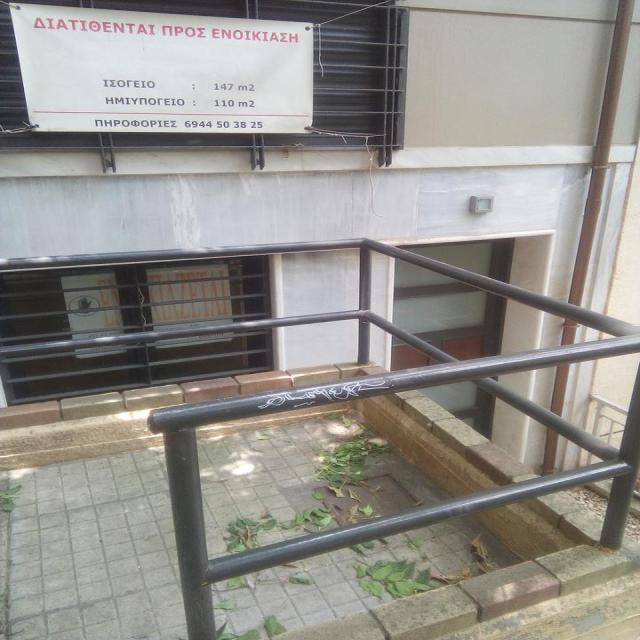nonspitting: (260, 380, 390, 410)
